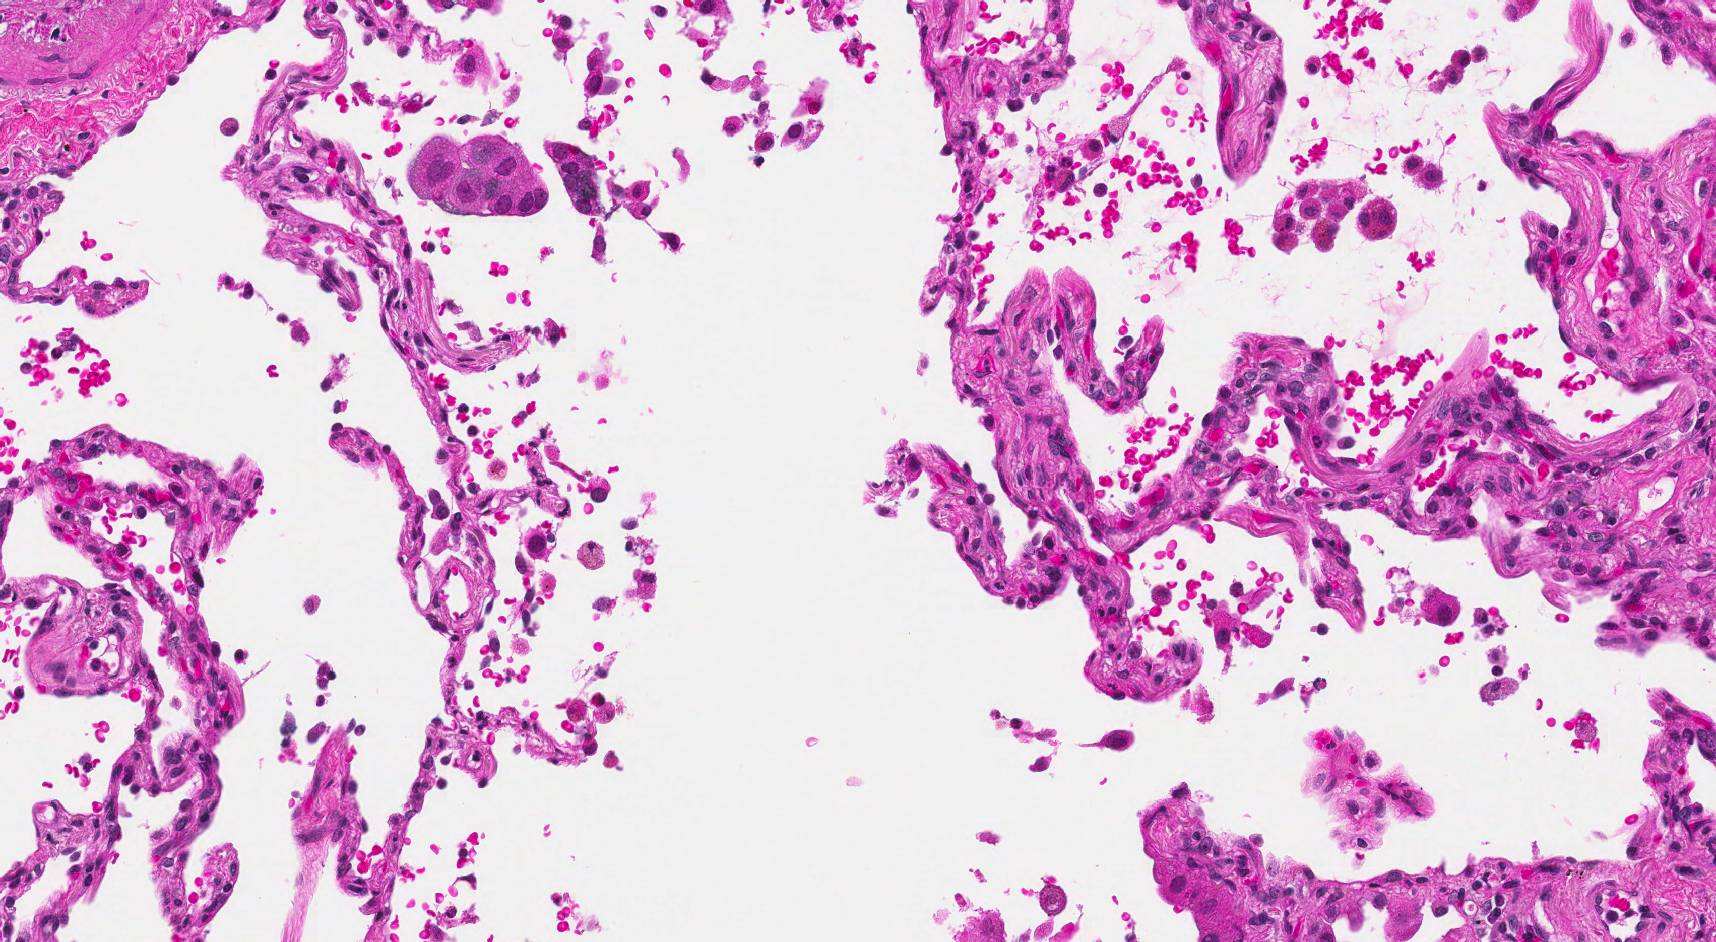stas: (409, 133, 549, 218), (542, 139, 602, 218)
